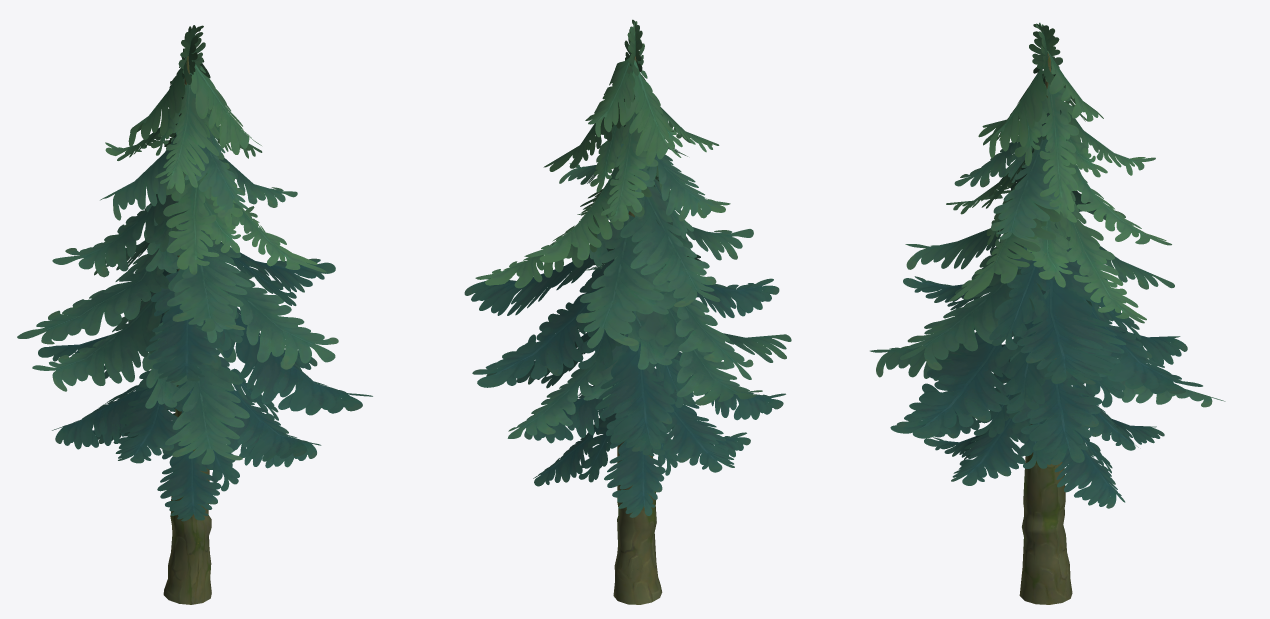
File: m_env_collect_tree_cedar_04.FBX
3 views of the same model, side by side, from view 1: azimuth 30°, elevation 25°; view 2: azimuth 150°, elevation 25°; view 3: azimuth 270°, elevation 25° (orthographic).
Visible parts, largest first — view 1: m_env_collect_tree_cedar_04; view 2: m_env_collect_tree_cedar_04; view 3: m_env_collect_tree_cedar_04.
Part boxes in pixels (<box>): m_env_collect_tree_cedar_04: <box>17,25,372,604</box>; m_env_collect_tree_cedar_04: <box>464,19,791,604</box>; m_env_collect_tree_cedar_04: <box>870,22,1225,604</box>.
Size of what is drawn, in the model's own units: 316 by 554 by 351.
